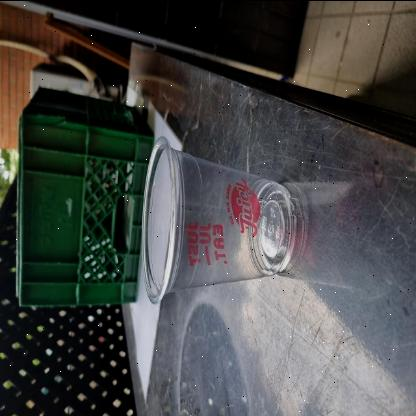Others: (138, 138, 294, 304)
